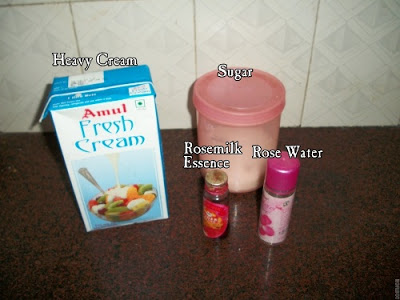VEG: (133, 98, 147, 110)
